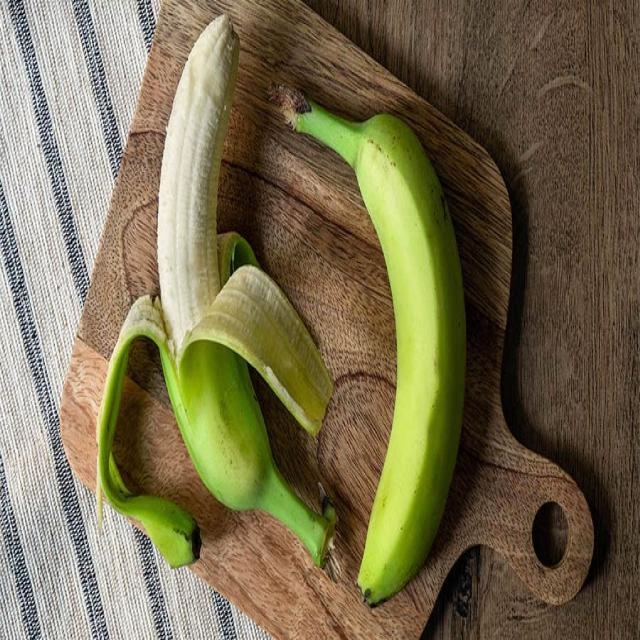agrume: (306, 90, 471, 608)
